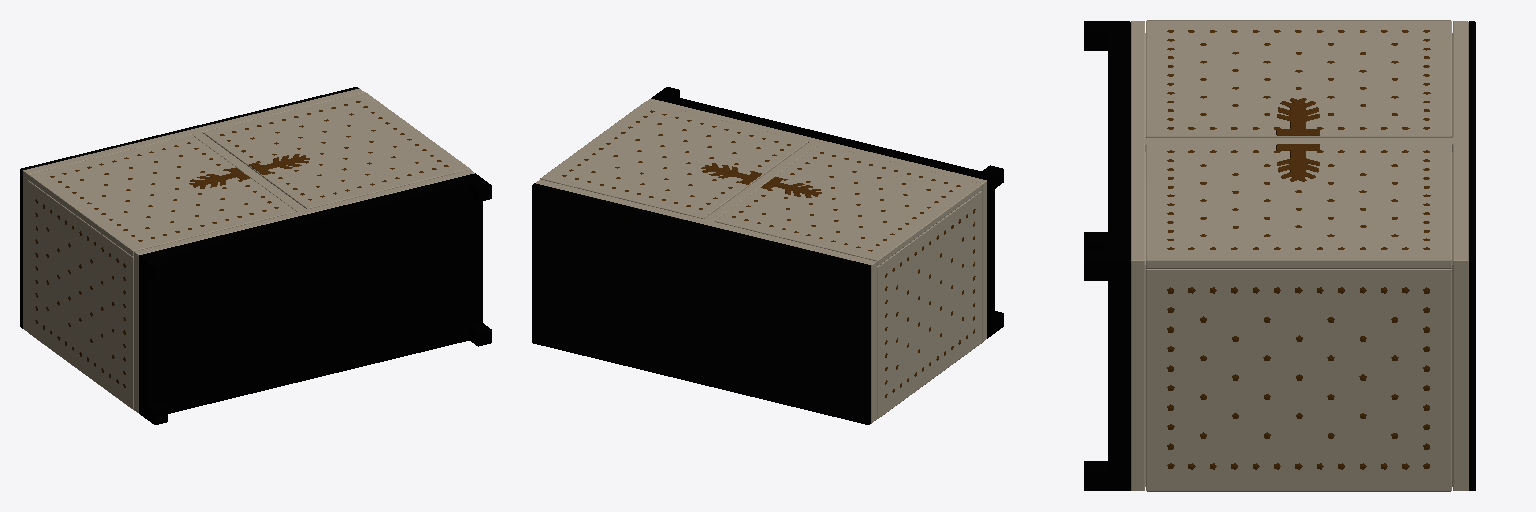
robot.urdf — s__1158:
<robot name="s__1158">


	<link name="0:virtual">
		<visual>
			<origin xyz="0.0 0.0 0.0" rpy="0 0 0"/>
			<geometry>
				<cylinder length="0" radius="0"/>
			</geometry>
		</visual>
	</link>


	<link name="1:static">
		<visual>
			<origin xyz="-0.0 -0.0 -0.0" rpy="0 0 0"/>
			<geometry>
				<mesh filename="../raw_data/s__1158/part_meshes/1.dae" />
			</geometry>
		</visual>
	</link>


	<link name="2:cabinet door 1">
		<visual>
			<origin xyz="-0.6092090010643005 -0.4602770060300827 -0.2628780007362366" rpy="0 0 0"/>
			<geometry>
				<mesh filename="../raw_data/s__1158/part_meshes/2.dae" />
			</geometry>
		</visual>
	</link>


	<link name="3:cabinet door 2">
		<visual>
			<origin xyz="0.613368742757447 -0.4602770060300827 -0.2522439956665039" rpy="0 0 0"/>
			<geometry>
				<mesh filename="../raw_data/s__1158/part_meshes/3.dae" />
			</geometry>
		</visual>
	</link>


	<joint name="0:virtual::1:static" type="fixed">
		<parent link="0:virtual"/>
		<child link="1:static"/>
		<origin xyz="0.0 0.0 0.0" rpy="0 0 0"/>
	</joint>


	<joint name="0:virtual::2:cabinet door 1_rotation" type="revolute">
		<parent link="0:virtual"/>
		<child link="2:cabinet door 1"/>
		<origin xyz="0.6092090010643005 0.4602770060300827 0.2628780007362366" rpy="0 0 0"/>
		<limit lower="0.0" upper="2.183406894244906" effort="10" velocity="3"/>
		<axis xyz="0.0 1.0 0.0"/>
	</joint>


	<joint name="0:virtual::3:cabinet door 2_rotation" type="revolute">
		<parent link="0:virtual"/>
		<child link="3:cabinet door 2"/>
		<origin xyz="-0.613368742757447 0.4602770060300827 0.2522439956665039" rpy="0 0 0"/>
		<limit lower="-2.214822820780804" upper="0.0" effort="10" velocity="3"/>
		<axis xyz="0.0 1.0 0.0"/>
	</joint>


</robot>

--- Facts derived from the render (not from the file) ---
Views: 3 orthographic renders of the robot side by side, from view 1: azimuth 30°, elevation 25°; view 2: azimuth 150°, elevation 25°; view 3: azimuth 270°, elevation 25°.
Robot: s__1158 — 4 links, 3 joints (2 revolute, 1 fixed); root link 0:virtual; default pose: every joint at zero.
Links seen in each view (by area): view 1: 1:static, 3:cabinet door 2, 2:cabinet door 1; view 2: 1:static, 3:cabinet door 2, 2:cabinet door 1; view 3: 1:static, 2:cabinet door 1, 3:cabinet door 2.
Boxes of the visible links, box(x1,y1,x2,y2) form: 1:static: box(20, 87, 491, 424); 3:cabinet door 2: box(28, 135, 295, 256); 2:cabinet door 1: box(203, 92, 470, 208); 1:static: box(532, 87, 1003, 424); 3:cabinet door 2: box(715, 144, 982, 265); 2:cabinet door 1: box(540, 102, 807, 218); 1:static: box(1084, 21, 1475, 491); 2:cabinet door 1: box(1145, 144, 1452, 268); 3:cabinet door 2: box(1145, 20, 1452, 137).
Bounding box of the posed robot: 1.22 × 0.8394 × 0.55 m (x, y, z).
3 mesh visuals loaded from 3 distinct referenced files (3 Collada DAE).